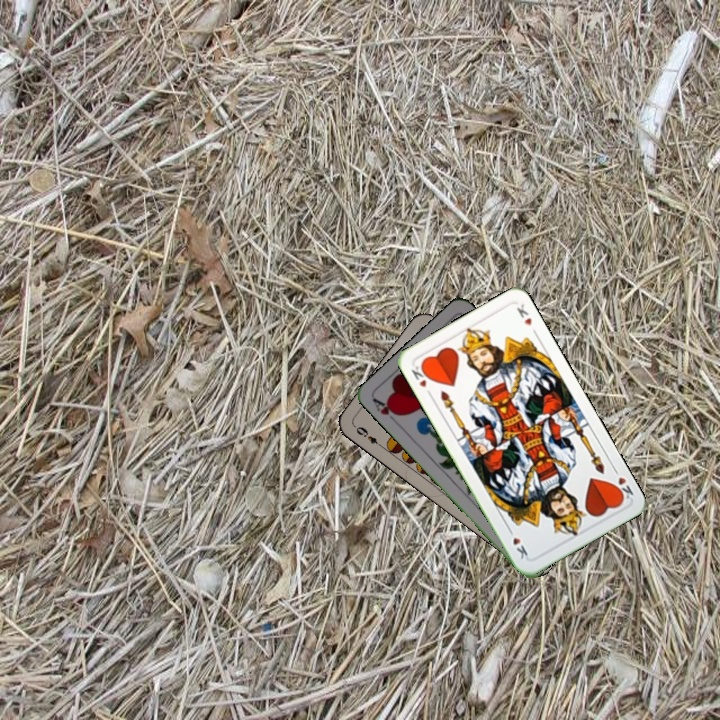E9: (351, 422, 386, 451)
HA: (369, 394, 404, 427)
HK: (609, 464, 636, 504), (407, 361, 435, 399)
